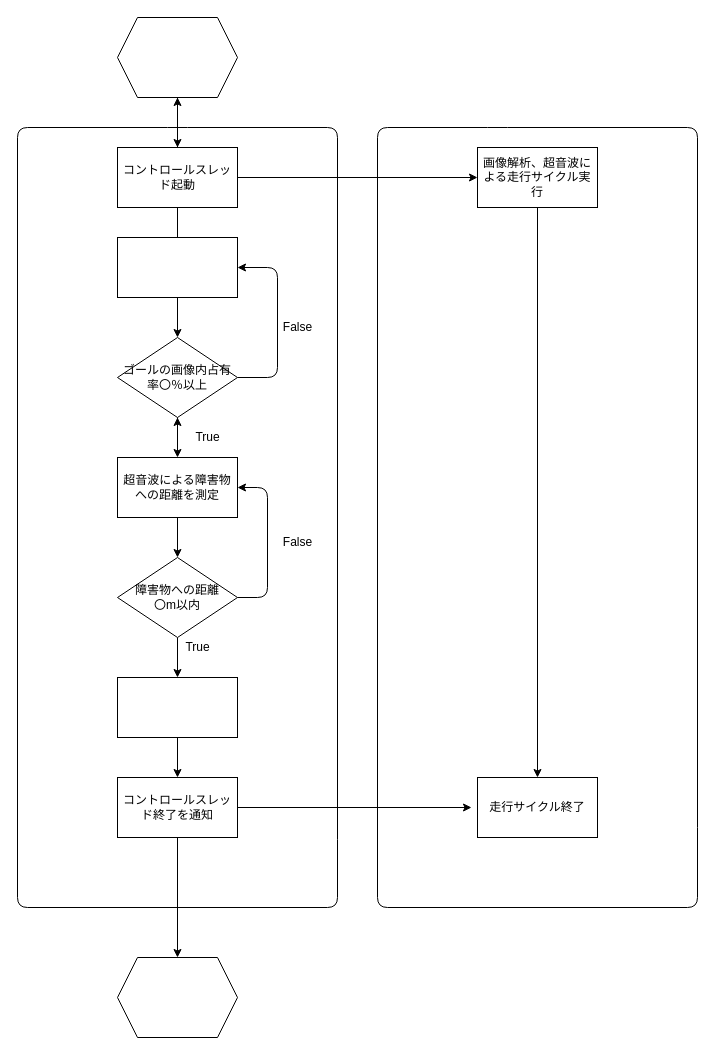
The diagram is 716 pixels wide and 1055 high, and some of its shapes have lost their labels. Each missing label, with the centre of its shape:
"ゴール到達を検知" belongs at point 177,707.
"ゴール検知" belongs at point 177,57.
"ミッション終了" belongs at point 177,997.
"画像取得・解析" belongs at point 177,267.
